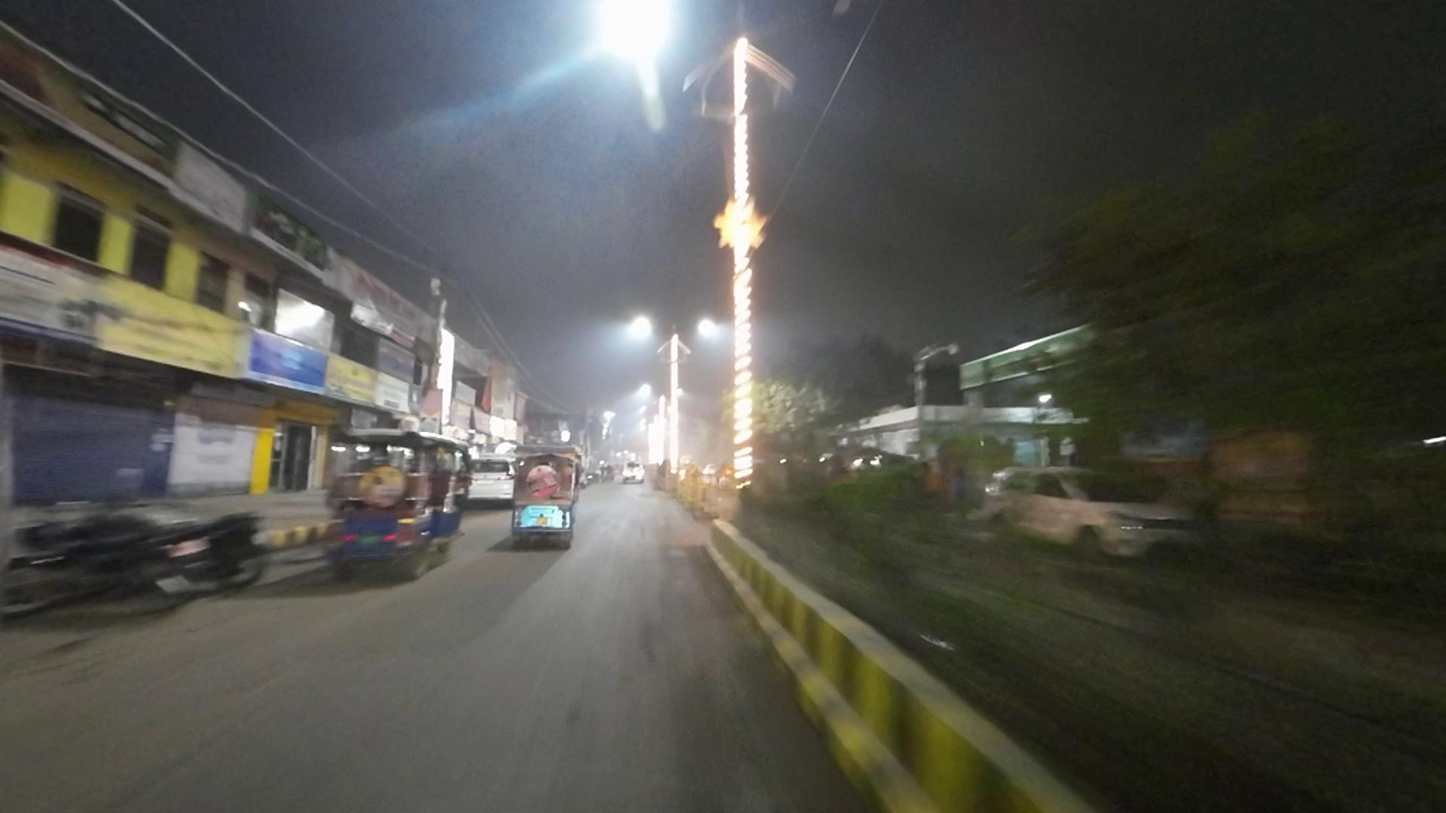streetlight: (764, 0, 863, 35)
